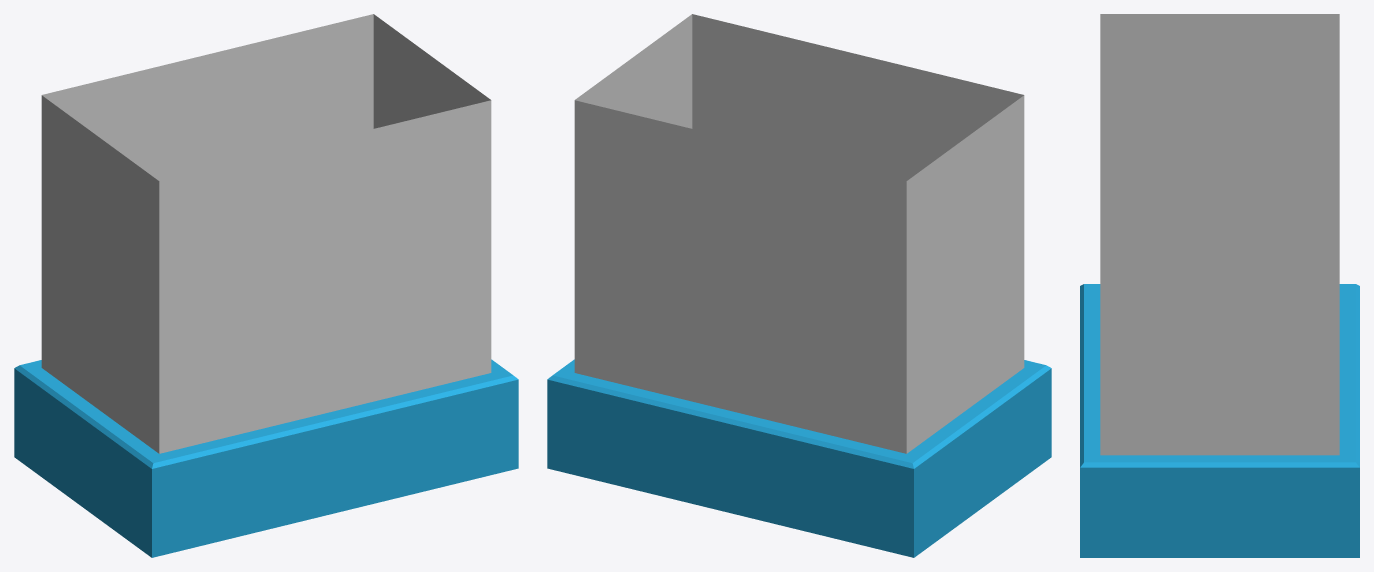
The model's file is Battlefield.dae.
3 renders of one model, left to right at view 1: azimuth 30°, elevation 25°; view 2: azimuth 150°, elevation 25°; view 3: azimuth 270°, elevation 25°, orthographic.
Visible parts, largest first — view 1: Cube.001, Cube; view 2: Cube.001, Cube; view 3: Cube.001, Cube.
Boxes of the visible parts, x1,y1,x2,y2 form: Cube.001: [41, 14, 491, 453]; Cube: [14, 359, 518, 557]; Cube.001: [574, 14, 1024, 453]; Cube: [547, 359, 1051, 557]; Cube.001: [1100, 14, 1339, 455]; Cube: [1080, 284, 1359, 557].
Bounding box in the file's own units: 3.08 × 2 × 2.93.
